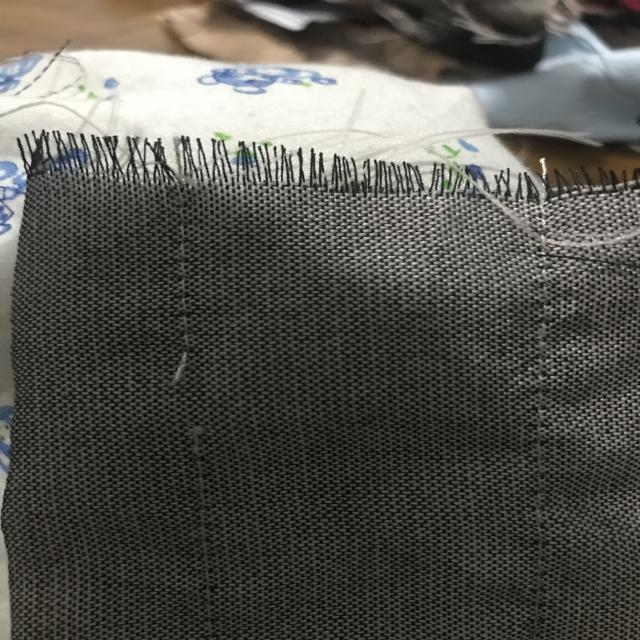broken: (156, 333, 219, 448)
